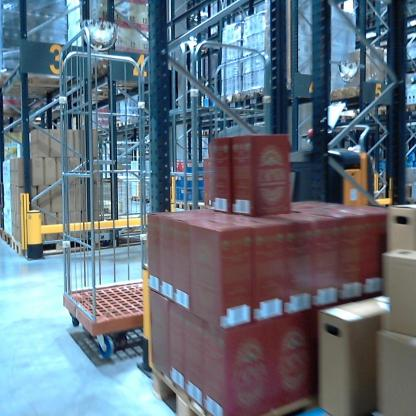pallet: (145, 356, 319, 413), (12, 235, 102, 260), (85, 58, 150, 91), (1, 65, 74, 94), (240, 87, 265, 103), (216, 94, 243, 108), (4, 229, 13, 248), (108, 121, 121, 130), (0, 227, 5, 244)
pallet_truck: (262, 109, 380, 214)
